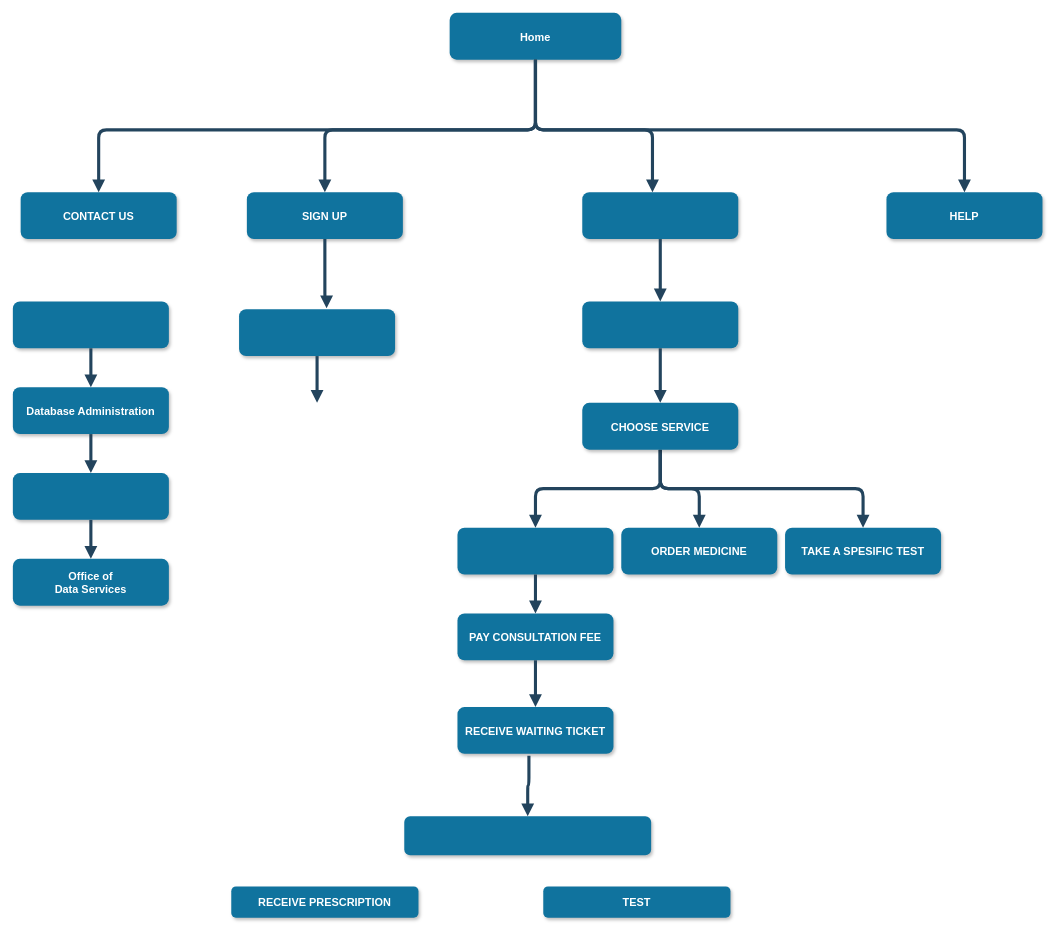
Some shapes in this 1055 by 931 pixel diagram are drawn without their labels. Here are the shapes that lost their labels. From the top down, the centre of each, then its label:
At (661,216): "SIGN IN".
At (91,325): "IT Division".
At (317,333): "Create your profile".
At (661,325): "MY PROFILE".
At (91,497): "Office of Technology Research".
At (536,552): "CONSULT A DOCTOR".
At (528,836): "RECEIVE CONSULTATION".
